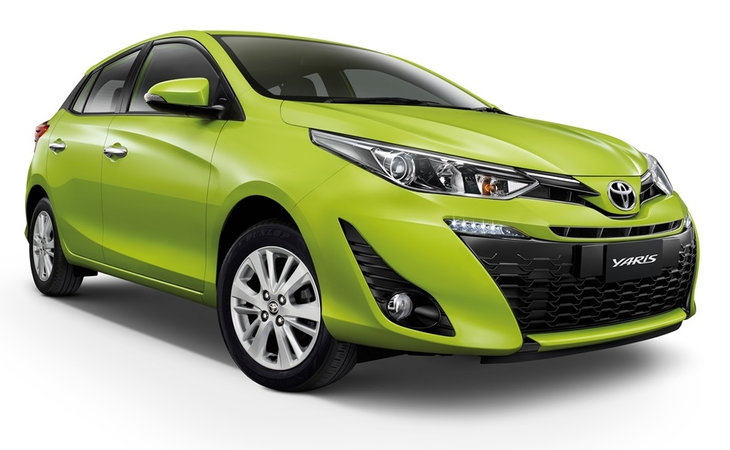sedan: (21, 25, 700, 392)
